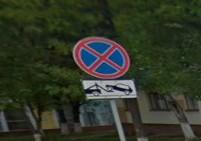No Parking: (74, 37, 131, 81)
